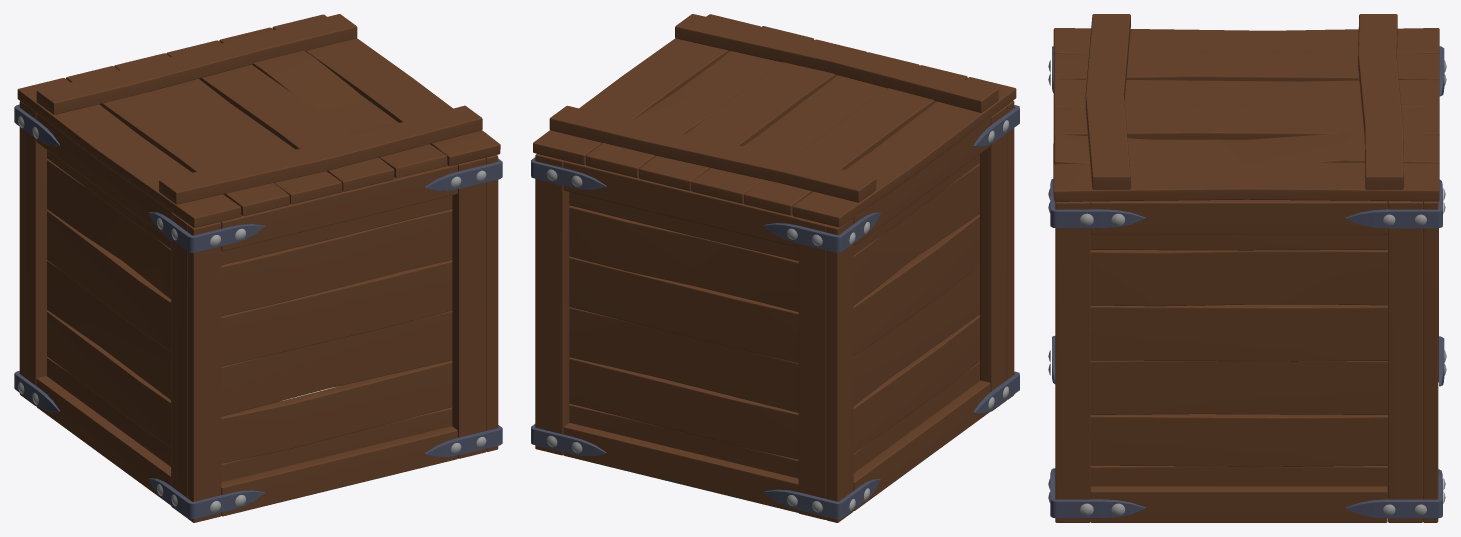
File: Crate_02.fbx
3 views of the same model, side by side, from view 1: azimuth 30°, elevation 25°; view 2: azimuth 150°, elevation 25°; view 3: azimuth 270°, elevation 25° (orthographic). The views are drawn at different scales.
Parts seen in each view (by area): view 1: Crate_02; view 2: Crate_02; view 3: Crate_02.
Part boxes in pixels (x1=…): Crate_02: x1=14, y1=14, x2=502, y2=522; Crate_02: x1=531, y1=14, x2=1019, y2=522; Crate_02: x1=1048, y1=14, x2=1446, y2=522.
Size of the model in its own units: 113 by 109 by 113.
